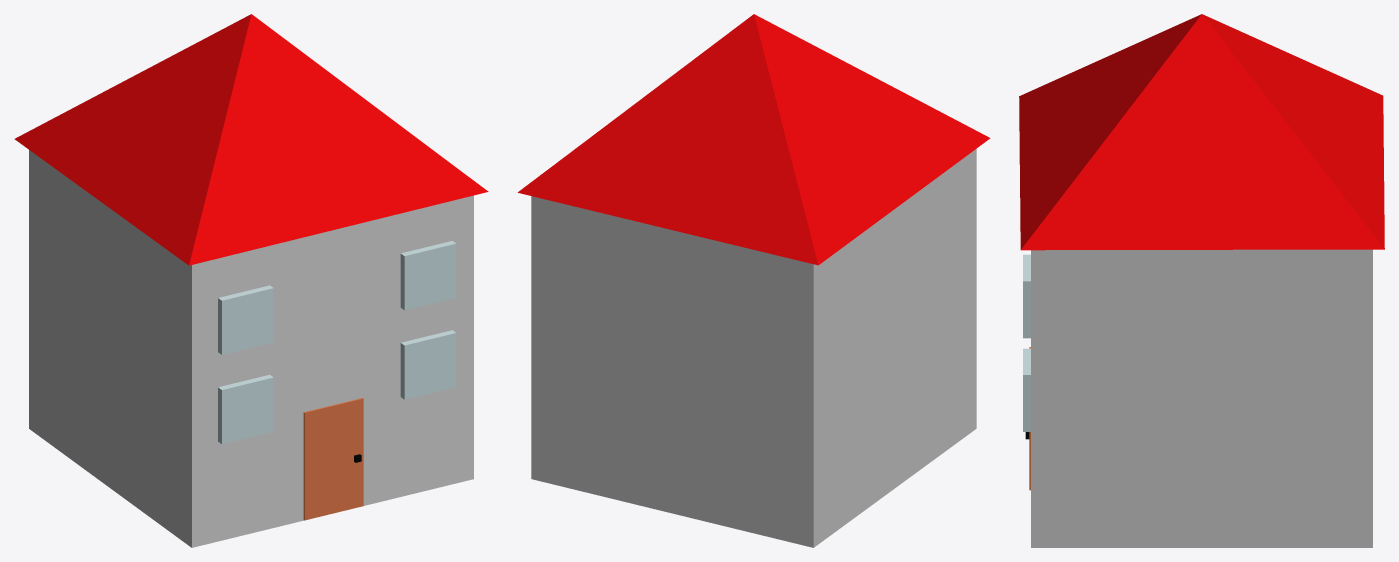
The model's file is Casa 3.fbx.
3 renders of one model, left to right at view 1: azimuth 30°, elevation 25°; view 2: azimuth 150°, elevation 25°; view 3: azimuth 270°, elevation 25°, orthographic. The views are drawn at different scales.
Parts seen in each view (by area): view 1: Cube, Cone, Cube.001, Cube.005, Cube.003, Cube.006, Cube.004; view 2: Cube, Cone; view 3: Cube, Cone, Cube.005, Cube.003.
Boxes of the visible parts, box(x1,y1,x2,y2) form: Cube: box(29, 150, 473, 547); Cone: box(14, 14, 488, 265); Cube.001: box(303, 398, 363, 520); Cube.005: box(400, 241, 456, 310); Cube.003: box(400, 330, 456, 399); Cube.006: box(218, 285, 273, 354); Cube.004: box(218, 374, 273, 444); Cube: box(531, 149, 976, 547); Cone: box(518, 14, 990, 265); Cube: box(1031, 249, 1372, 547); Cone: box(1019, 14, 1384, 250); Cube.005: box(1023, 254, 1030, 338); Cube.003: box(1023, 348, 1030, 431).
Bounding box in the file's own units: 134 × 186 × 134.
